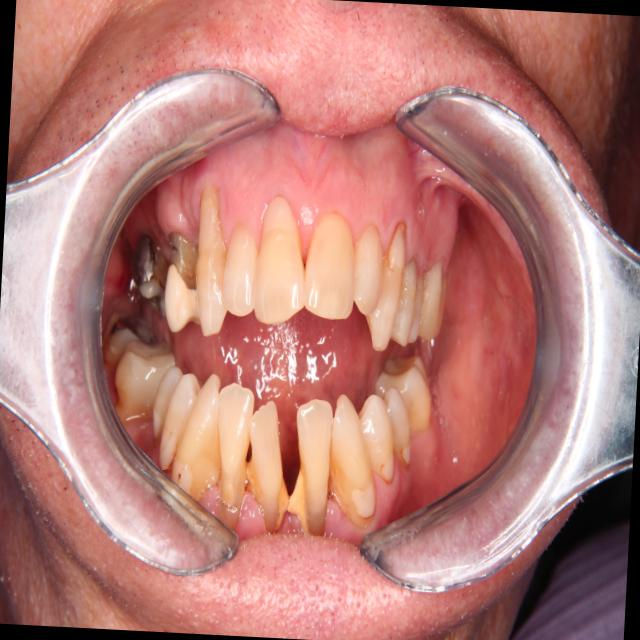tooth: (245, 189, 316, 334), (323, 384, 386, 535), (284, 387, 341, 541), (188, 179, 241, 343), (206, 375, 259, 538), (168, 365, 229, 505), (295, 207, 365, 325), (240, 395, 296, 538), (359, 208, 411, 358), (157, 221, 209, 340), (370, 346, 438, 437), (110, 336, 179, 425), (218, 215, 270, 324), (94, 298, 171, 370), (156, 368, 204, 477), (342, 210, 388, 323), (352, 392, 400, 488), (376, 382, 418, 475), (129, 227, 173, 308), (145, 362, 187, 445), (389, 252, 421, 348), (416, 249, 445, 345), (405, 268, 426, 346), (433, 268, 450, 342)
